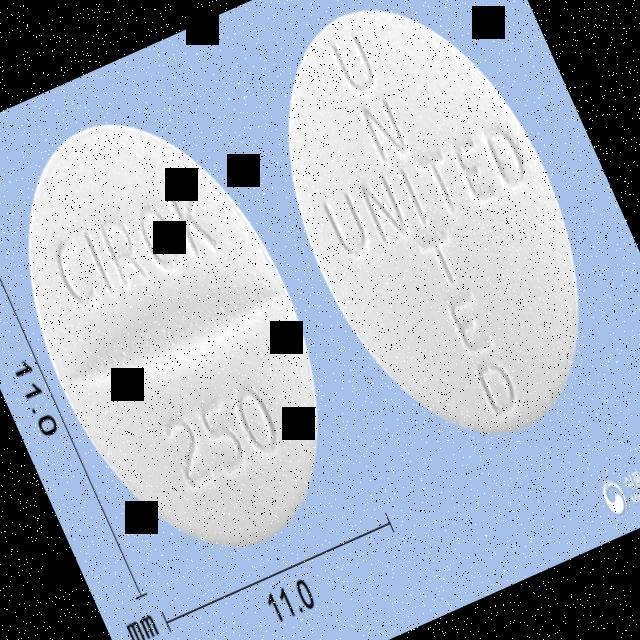Cirok -500mg: (223, 0, 640, 482), (0, 77, 381, 595)
